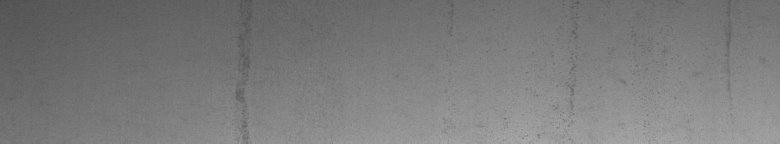ib: (557, 28, 626, 128)
